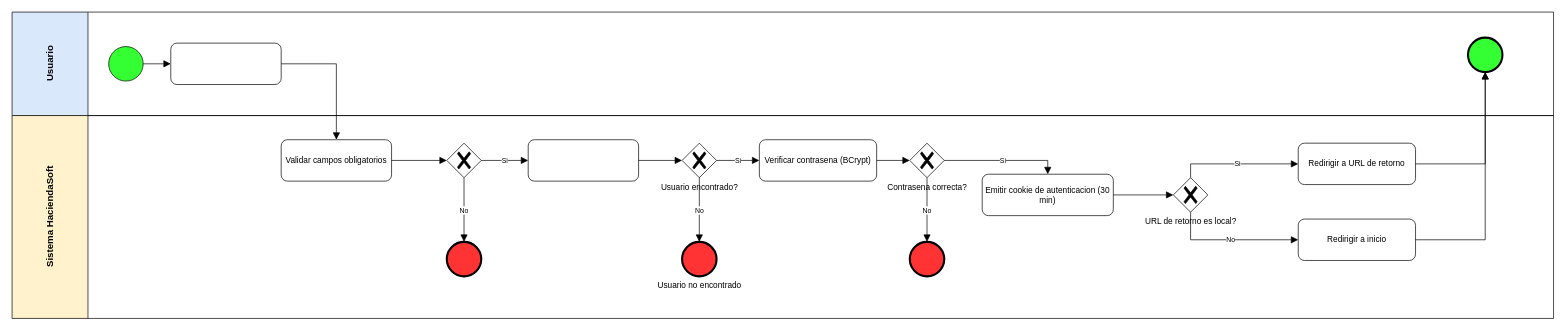
This 1566x331 diagram has some shape labels left out. Each missing label, with the box of its shape:
Buscar usuario por nombre: (528, 139, 639, 181)
Campos completos?: (446, 142, 481, 178)
Credenciales invalidas: (909, 241, 944, 276)
Error: datos incompletos: (446, 241, 481, 276)
Ingresar usuario y contrasena: (170, 42, 281, 85)
Sesion iniciada: (1467, 37, 1502, 72)
